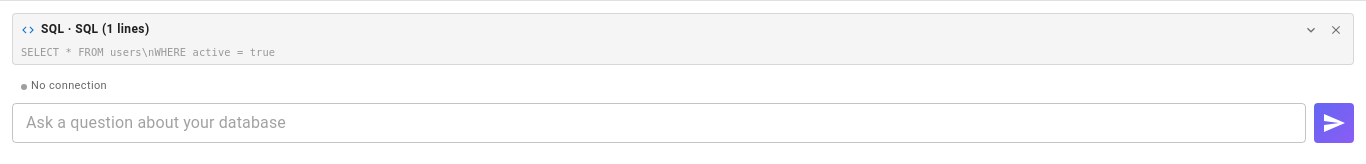
Test: ChatInput › attached SQL › collapses SQL preview when Collapse SQL button is clicked
Note: Expand first
Click the button named "Expand SQL" at (1311, 30), box [1301,20,1321,40]
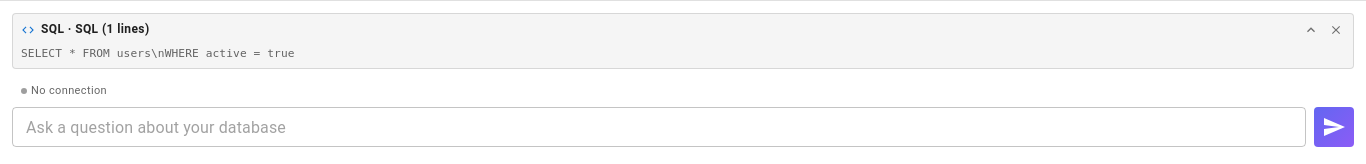
Note: Then collapse
Click the button named "Collapse SQL" at (1311, 30), box [1301,20,1321,40]
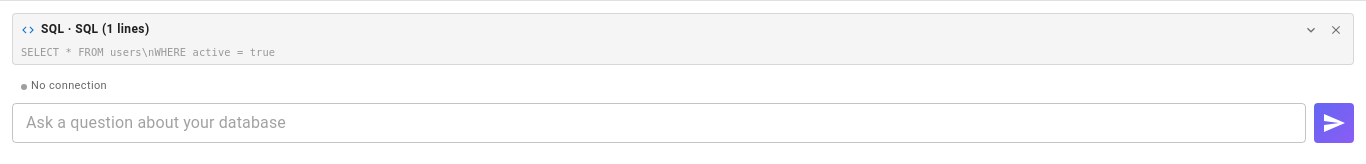
expect the button named "Expand SQL" is shown: met, box [1301,20,1321,40]
